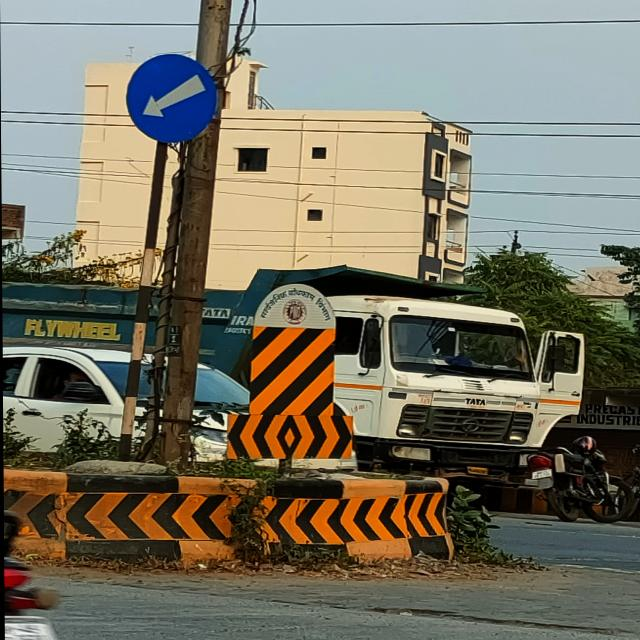COMPULSARY_KEEP_LEFT: (122, 50, 220, 148)
